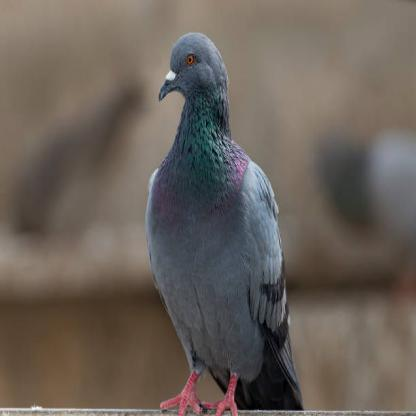Rock Pigeon: (146, 30, 303, 410)
